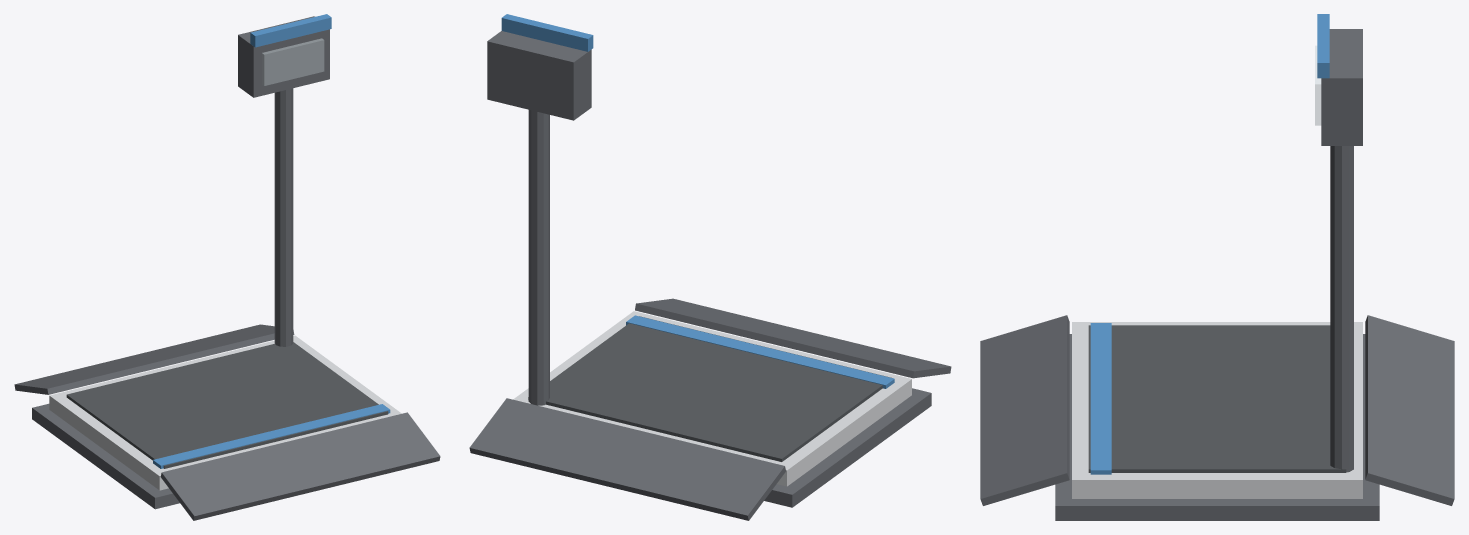
Rendered from boarding-kennels-and-cattery-boarding-kennels-and-catt-0cc6bdc7__35565.glb.
The picture shows the model from 3 angles, left to right: view 1: azimuth 30°, elevation 25°; view 2: azimuth 150°, elevation 25°; view 3: azimuth 270°, elevation 25°; orthographic projection. The views are drawn at different scales.
Visible parts, largest first — view 1: boarding-kennels-and-cattery-weighing-scale-platform; view 2: boarding-kennels-and-cattery-weighing-scale-platform; view 3: boarding-kennels-and-cattery-weighing-scale-platform.
Part boxes in pixels (x1=…): boarding-kennels-and-cattery-weighing-scale-platform: x1=14, y1=14, x2=440, y2=520; boarding-kennels-and-cattery-weighing-scale-platform: x1=469, y1=14, x2=951, y2=520; boarding-kennels-and-cattery-weighing-scale-platform: x1=980, y1=14, x2=1454, y2=520.
Size of the model in its own units: 1.01 by 1.23 by 1.14.
